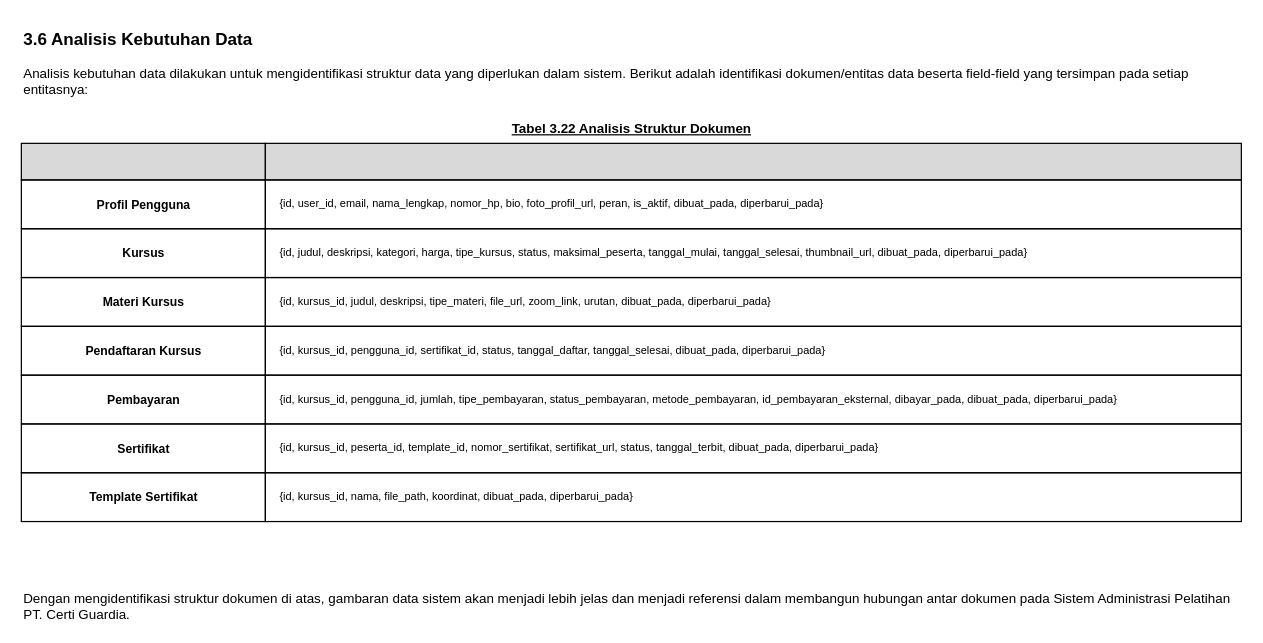
This 1263x643 diagram has some shape labels left out. Here are the shapes that lost their labels. From the top down, the centre of each, then its label:
At point (142, 161): "Nama Dokumen".
At point (752, 161): "Field".
